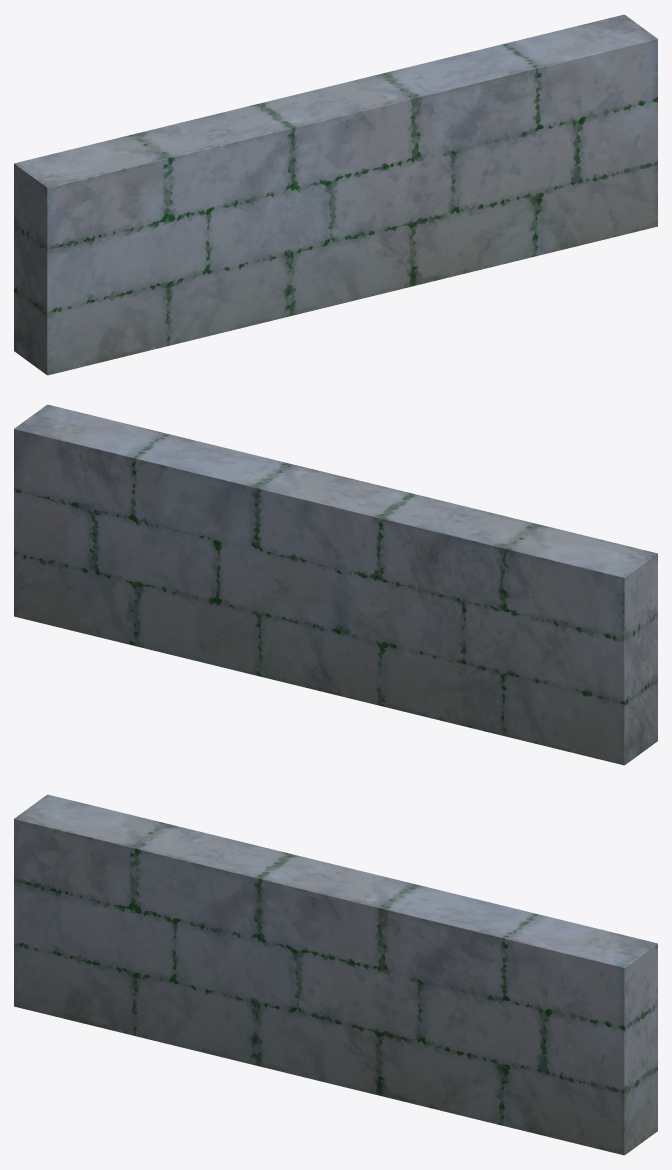
Rendered from Birck_long_noDamage_low.fbx.
3 views of the same model, one above another, from view 1: azimuth 30°, elevation 25°; view 2: azimuth 150°, elevation 25°; view 3: azimuth 330°, elevation 25° (orthographic).
Parts seen in each view (by area): view 1: Birck_long_noDamage_low; view 2: Birck_long_noDamage_low; view 3: Birck_long_noDamage_low.
Boxes of the visible parts, x1,y1,x2,y2 form: Birck_long_noDamage_low: [14, 14, 657, 375]; Birck_long_noDamage_low: [14, 404, 657, 765]; Birck_long_noDamage_low: [14, 794, 657, 1155].
Size of the model in its own units: 5.38 by 1.58 by 0.5106.
